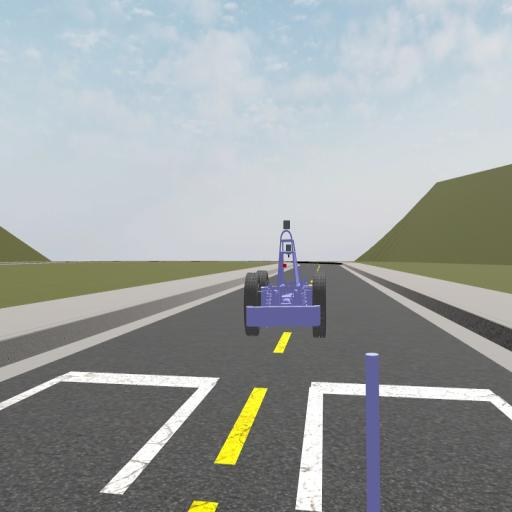ERP-42: (244, 220, 326, 336)
